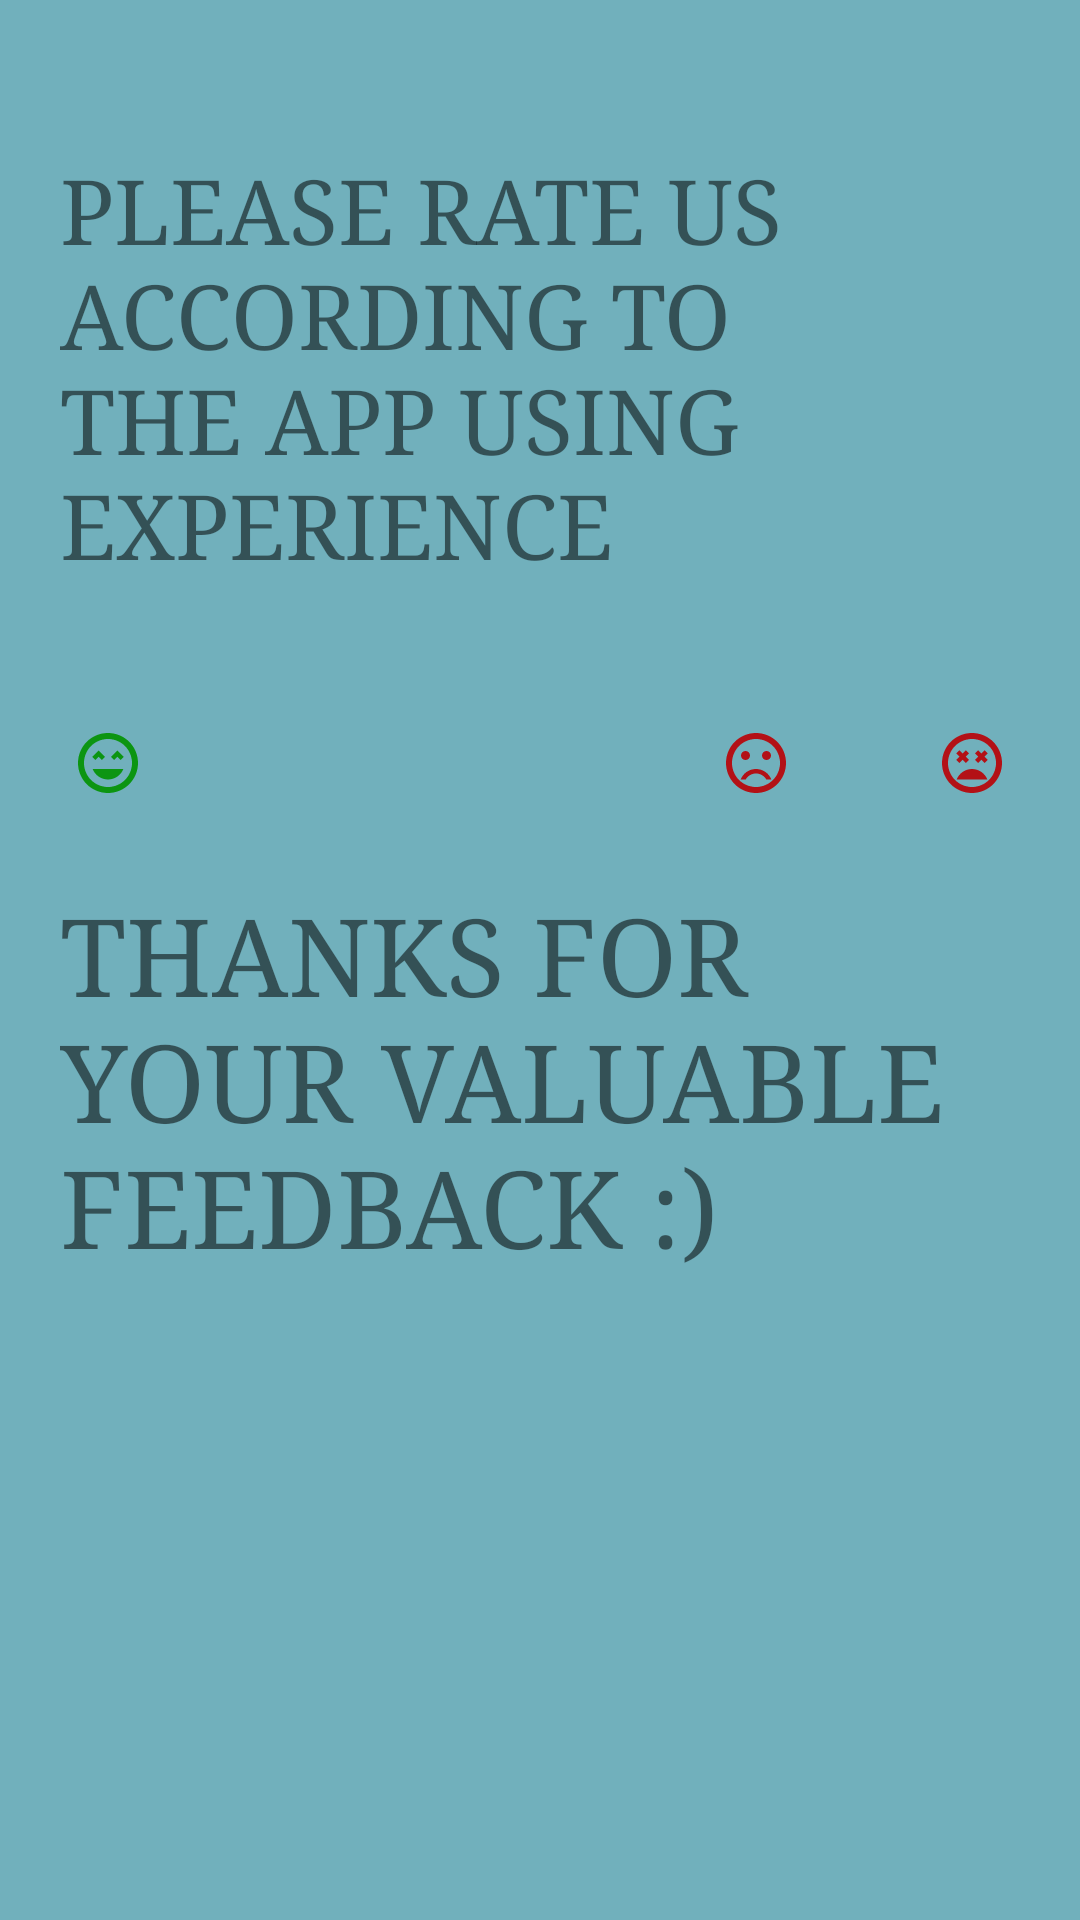

Icons on this 1080px×1920px Android screen, each with its box as (x1, y1, x2, y2):
dissatisfied: (726, 733, 786, 793)
very dis happy: (942, 733, 1002, 793)
very satisfied: (78, 733, 138, 793)
